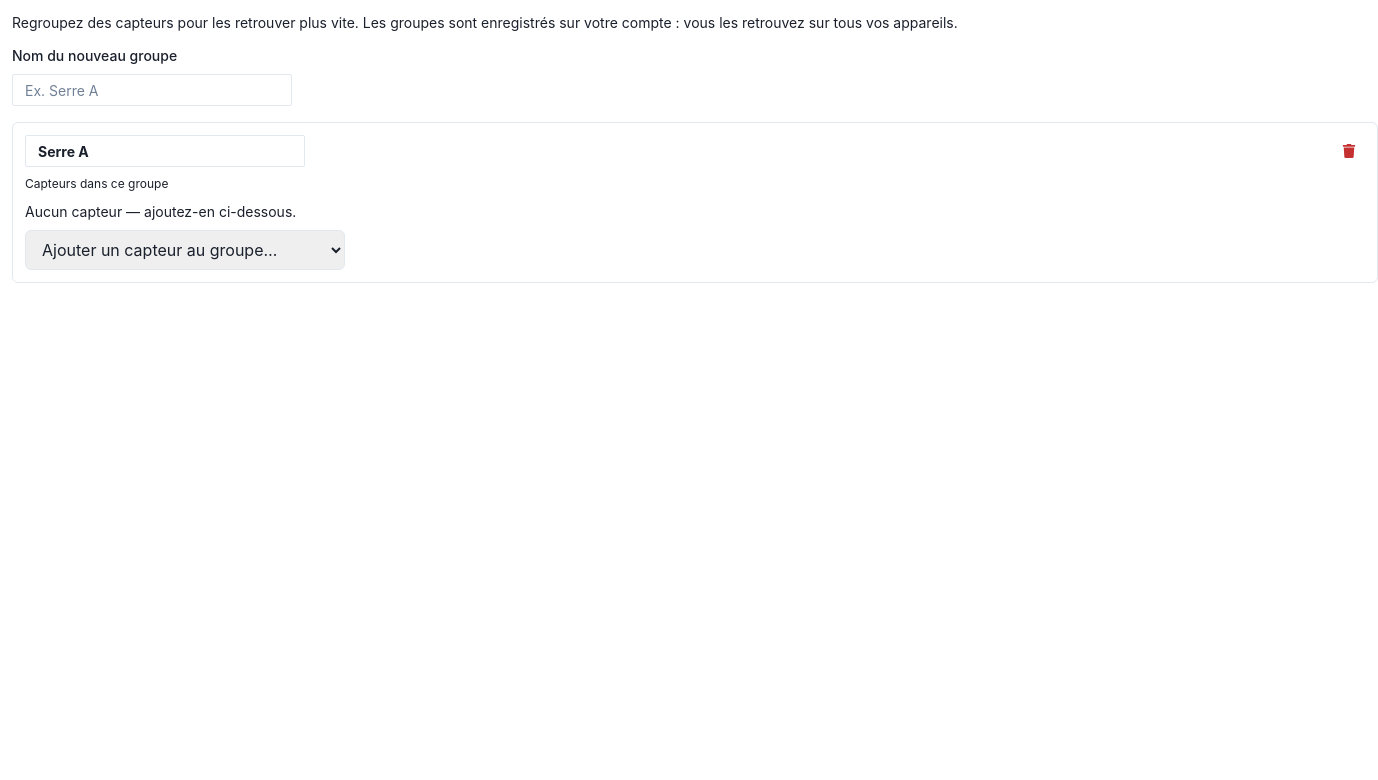
SensorGroupsSettings — account persistence › adds a sensor as the (device_id, sensor_key) pair the API keys on
Select "Humidité sol — Zone 5 (Router A)" in the dropdown named "Ajouter un capteur au groupe…": [185, 250] box [25,230,345,270]
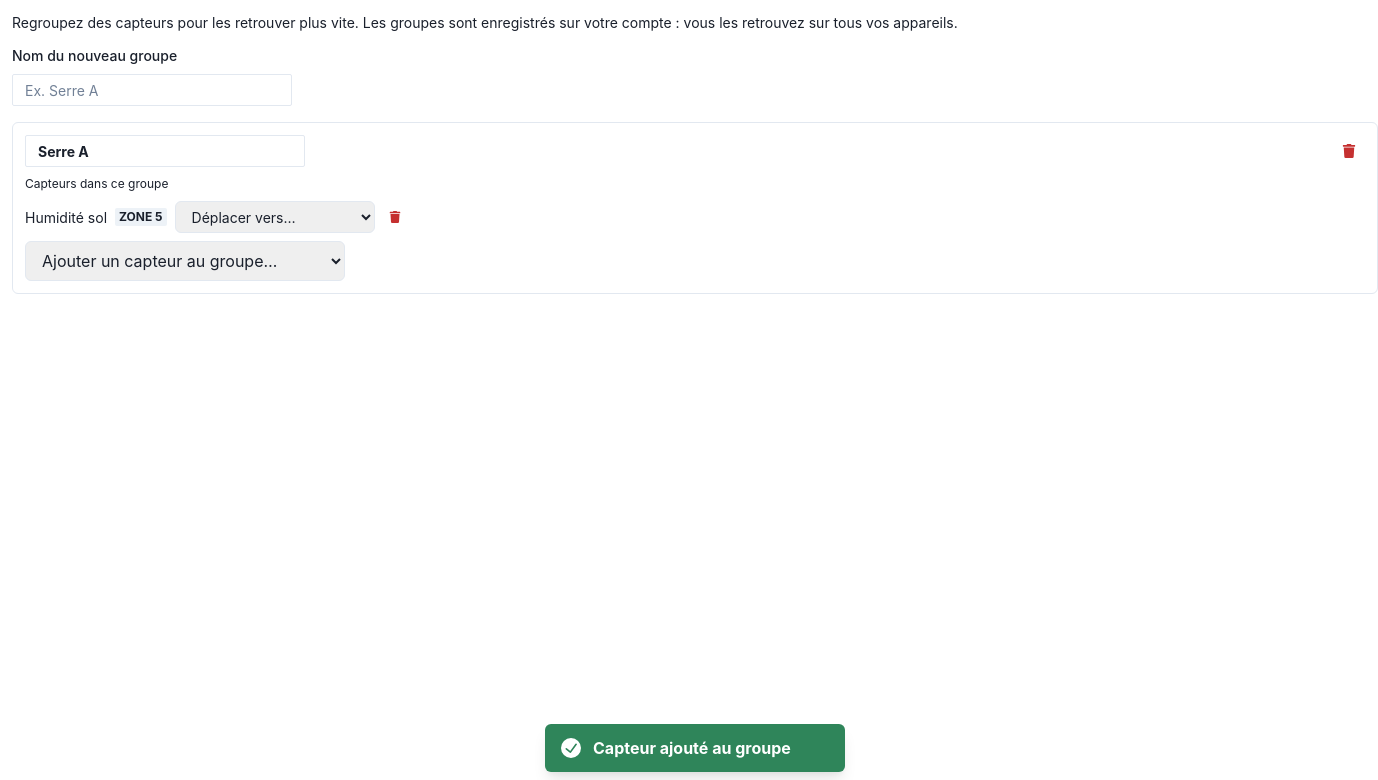
Check: the text "Humidité sol" is shown, box [25,206,107,228]
